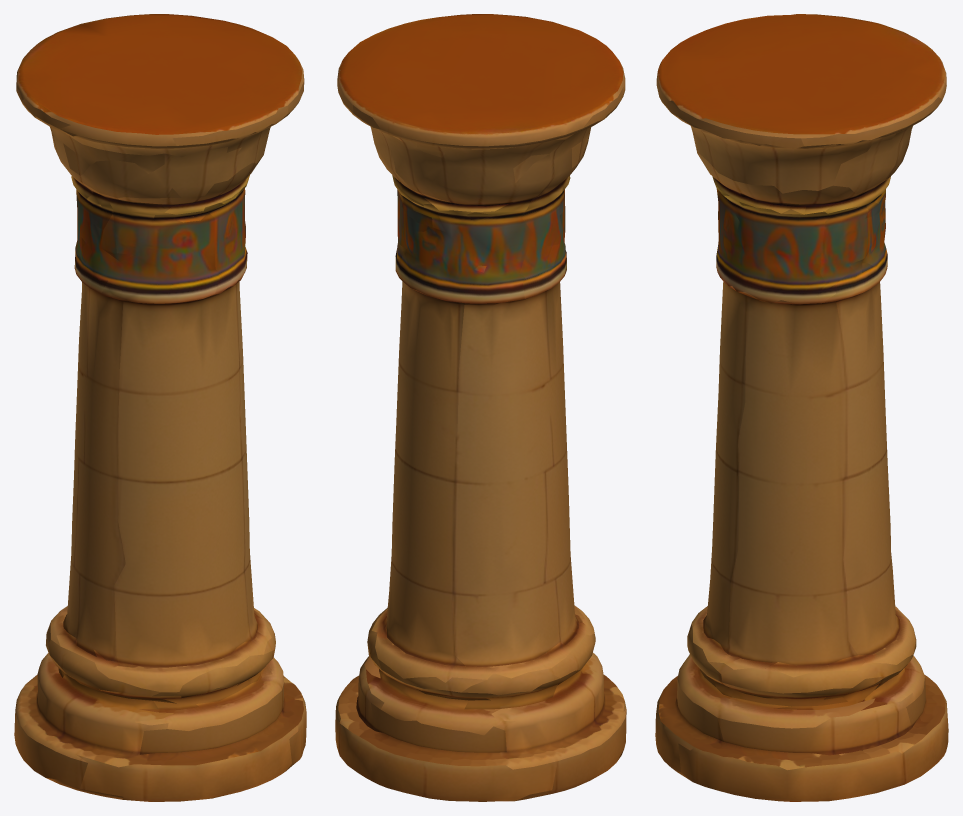
Rendered from Pillar2.fbx.
3 views of the same model, side by side, from view 1: azimuth 30°, elevation 25°; view 2: azimuth 150°, elevation 25°; view 3: azimuth 270°, elevation 25° (orthographic).
Parts seen in each view (by area): view 1: tmpi2306uvy.ply; view 2: tmpi2306uvy.ply; view 3: tmpi2306uvy.ply.
Part boxes in pixels (<box>): tmpi2306uvy.ply: <box>14,14,306,801</box>; tmpi2306uvy.ply: <box>335,14,626,801</box>; tmpi2306uvy.ply: <box>655,14,948,801</box>.
Bounding box in the file's own units: 78.79 × 199 × 79.01.
Materials: 1 (1 with a texture image).
